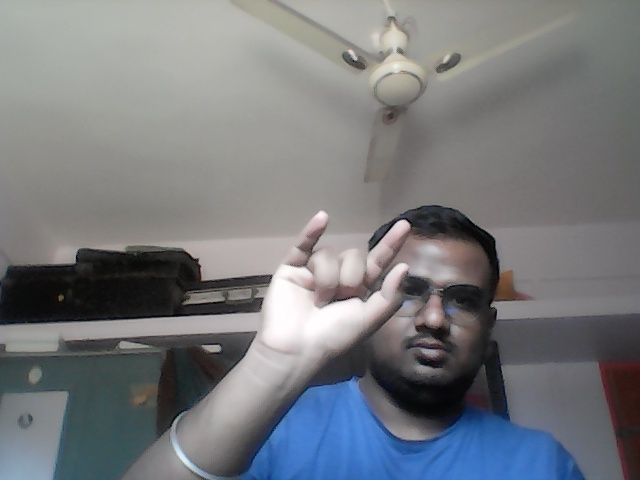I Love You: (257, 206, 413, 362)
